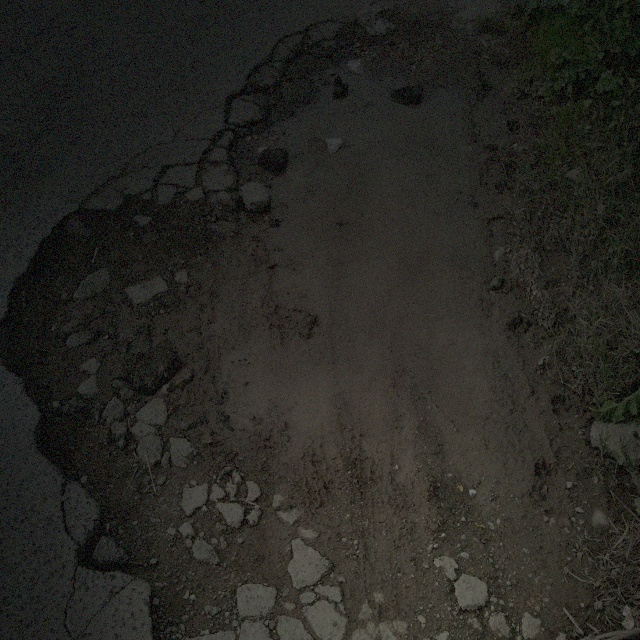pothole: (6, 170, 190, 534)
